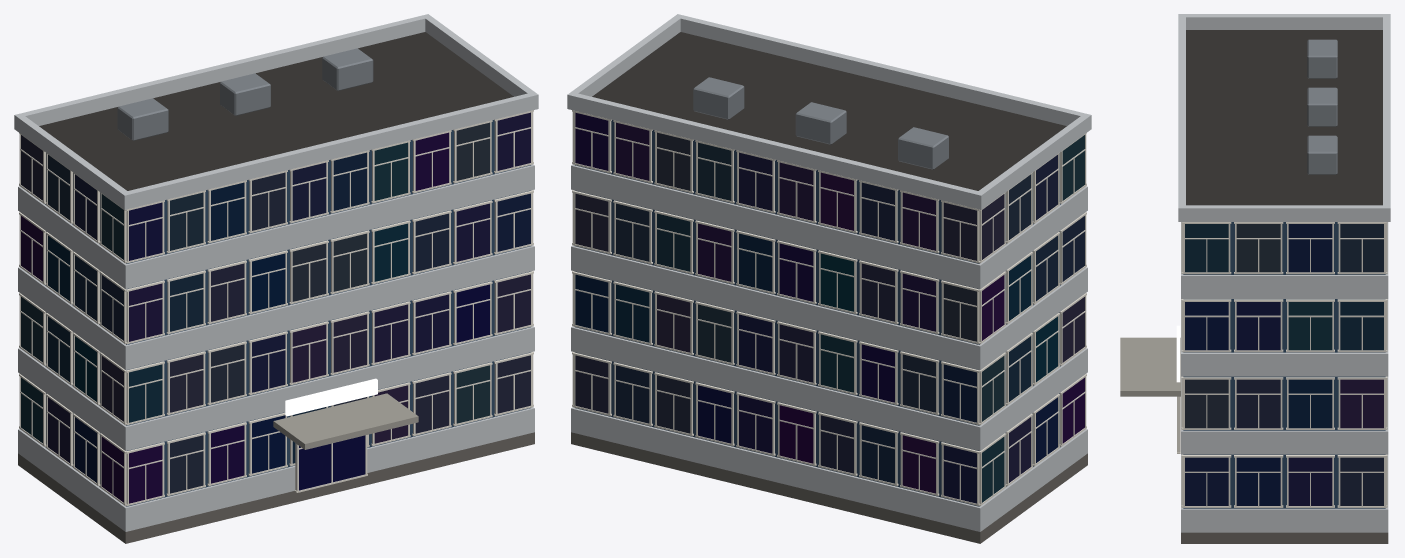
The model's file is office.glb.
3 views of the same model, side by side, from view 1: azimuth 30°, elevation 25°; view 2: azimuth 150°, elevation 25°; view 3: azimuth 270°, elevation 25° (orthographic). The views are drawn at different scales.
Parts seen in each view (by area): view 1: office; view 2: office; view 3: office.
Part boxes in pixels (x1,y1,x2,y2): office: [14, 14, 538, 543]; office: [567, 14, 1091, 543]; office: [1120, 14, 1390, 543].
Size of the model in its own units: 18.2 by 15.14 by 10.7.
